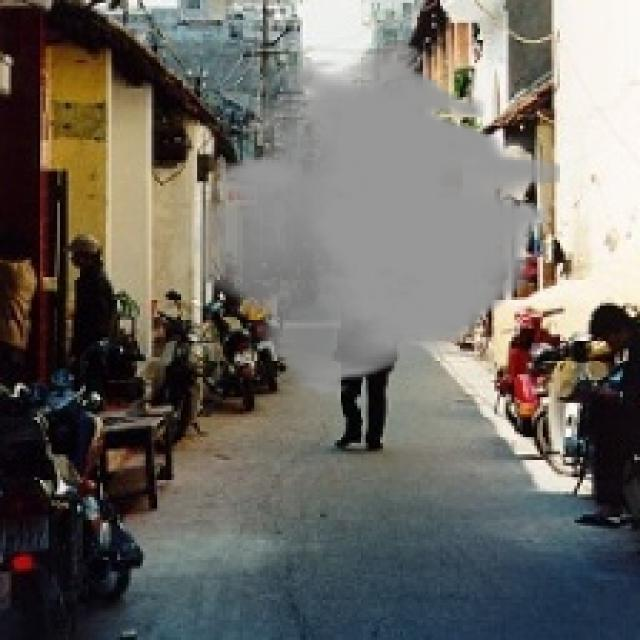smoke: (194, 43, 560, 397)
